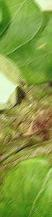Tomato leaf late blight: (0, 83, 52, 217)
